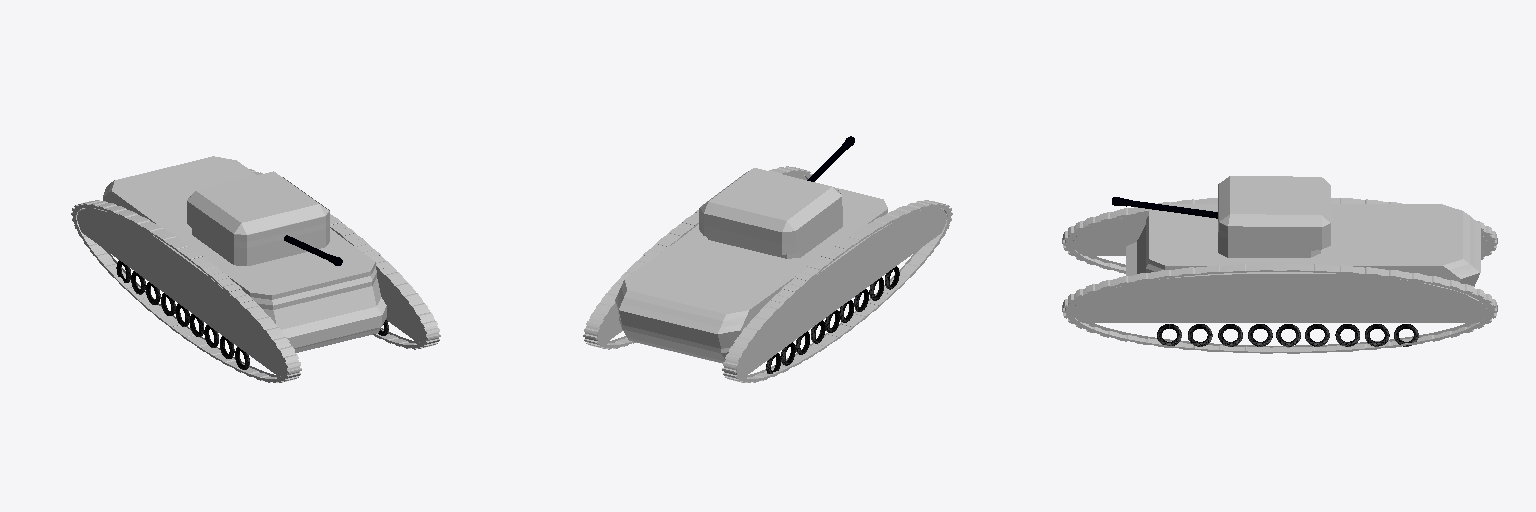
3 renders of one model, left to right at view 1: azimuth 30°, elevation 25°; view 2: azimuth 150°, elevation 25°; view 3: azimuth 270°, elevation 25°, orthographic.
Visible parts, largest first — view 1: Cubo.001, Cubo.004, Rosca.017; view 2: Cubo.001, Cubo.004, Rosca.017; view 3: Cubo.004, Cubo.001, Rosca.017, Cilindro.
Boxes of the visible parts, x1=… form: Cubo.001: x1=103, y1=156, x2=386, y2=352; Cubo.004: x1=71, y1=169, x2=440, y2=382; Rosca.017: x1=116, y1=260, x2=388, y2=369; Cubo.001: x1=615, y1=168, x2=887, y2=363; Cubo.004: x1=583, y1=166, x2=952, y2=382; Rosca.017: x1=766, y1=266, x2=899, y2=373; Cubo.004: x1=1062, y1=198, x2=1497, y2=353; Cubo.001: x1=1126, y1=176, x2=1480, y2=286; Rosca.017: x1=1157, y1=324, x2=1418, y2=346; Cilindro: x1=1112, y1=197, x2=1217, y2=218.
Bounding box in the file's own units: 8.77 × 6.7 × 21.73.
Materials: 4 (1 with a texture image).